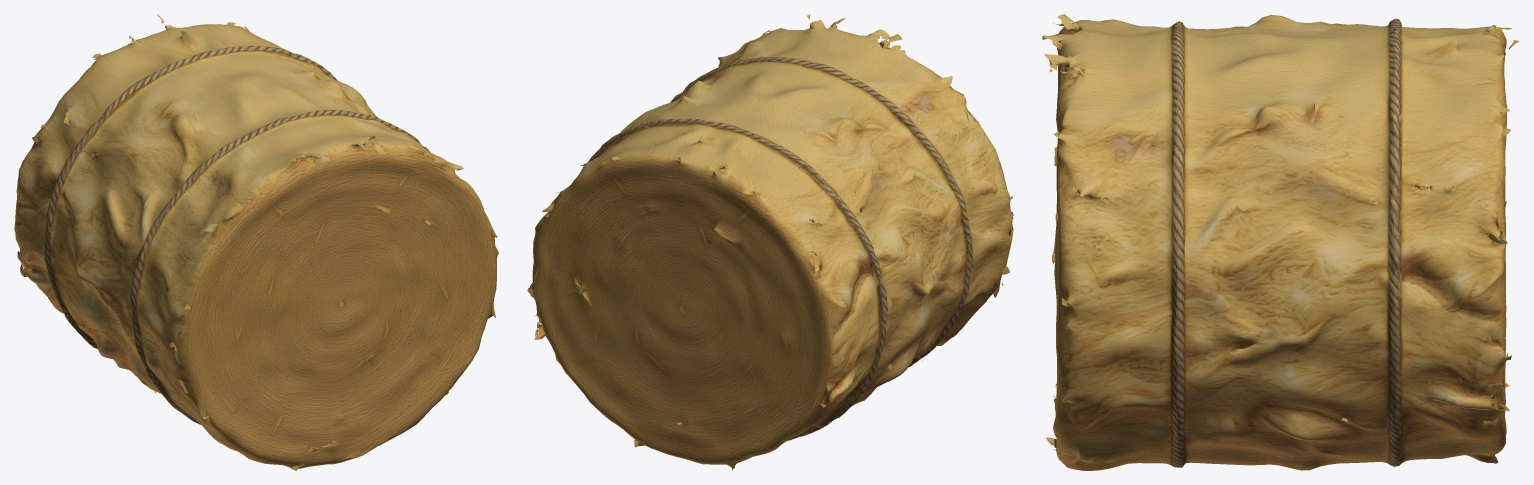
The model's file is hay+bale+3d+model.fbx.
3 views of the same model, side by side, from view 1: azimuth 30°, elevation 25°; view 2: azimuth 150°, elevation 25°; view 3: azimuth 270°, elevation 25° (orthographic). The views are drawn at different scales.
Visible parts, largest first — view 1: tripo_node_0273e97f; view 2: tripo_node_0273e97f; view 3: tripo_node_0273e97f.
Part boxes in pixels (<box>): tripo_node_0273e97f: <box>14,14,498,470</box>; tripo_node_0273e97f: <box>527,14,1013,470</box>; tripo_node_0273e97f: <box>1042,14,1519,470</box>.
Size of the model in its own units: 98.78 by 91.03 by 96.67.
Materials: 1 (1 with a texture image).
